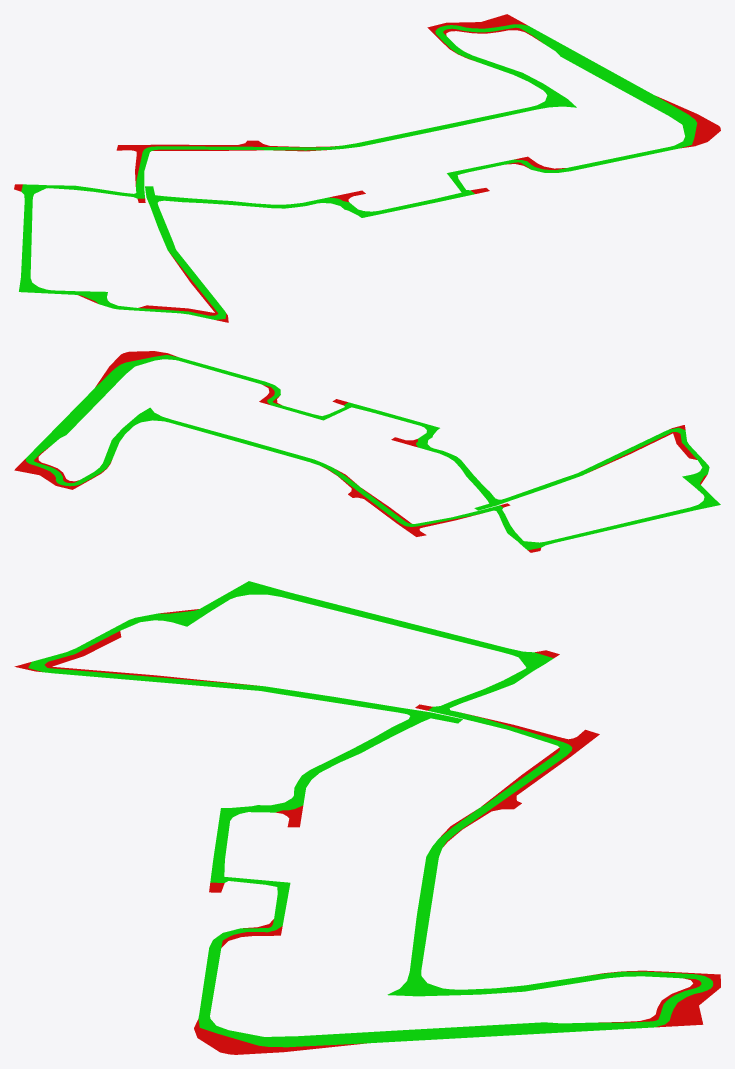
File: TrackV1.fbx
3 views of the same model, one above another, from view 1: azimuth 30°, elevation 25°; view 2: azimuth 150°, elevation 25°; view 3: azimuth 270°, elevation 25° (orthographic). The views are drawn at different scales.
Visible parts, largest first — view 1: trackedit:trackQuad; view 2: trackedit:trackQuad; view 3: trackedit:trackQuad.
Part boxes in pixels (x1,y1,x2,y2): trackedit:trackQuad: (14, 14, 720, 322); trackedit:trackQuad: (14, 351, 720, 552); trackedit:trackQuad: (14, 581, 720, 1054).
Bounding box in the file's own units: 6.27 × 0 × 3.96.
